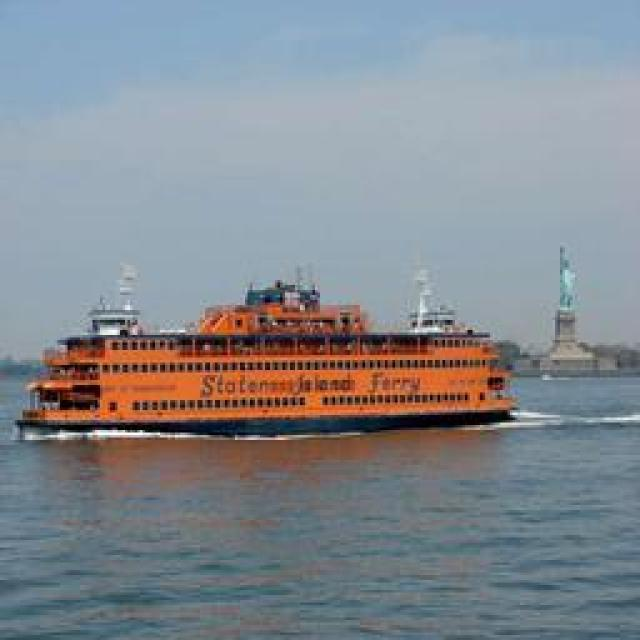CIV_Ship: (15, 256, 520, 436)
